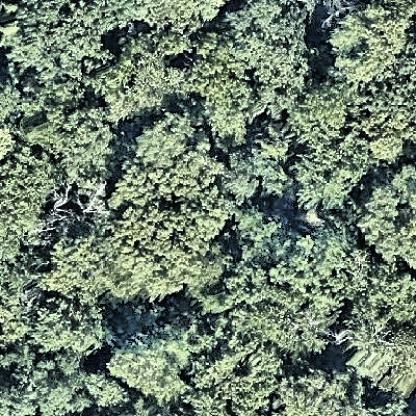tree-top: (108, 113, 231, 283), (229, 207, 347, 360), (225, 3, 321, 122), (338, 273, 414, 403), (40, 235, 182, 301), (110, 315, 213, 398), (6, 9, 108, 91), (98, 29, 186, 114), (322, 1, 416, 80), (1, 144, 60, 261), (360, 163, 415, 275), (207, 333, 274, 416), (351, 80, 416, 164), (46, 110, 124, 179), (18, 348, 93, 416), (294, 149, 363, 214), (33, 297, 107, 357), (276, 365, 359, 416), (293, 81, 351, 146), (226, 147, 289, 203), (81, 369, 130, 410)
